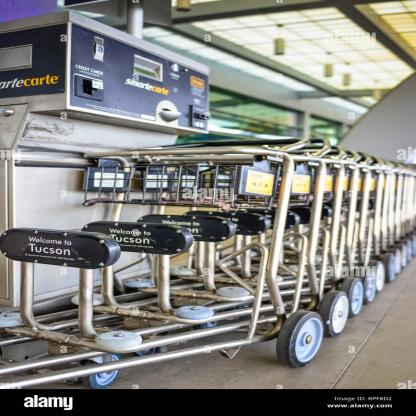airport-trolley: (0, 144, 323, 390), (72, 146, 354, 362), (280, 144, 367, 322), (348, 149, 383, 304), (362, 160, 402, 283)
